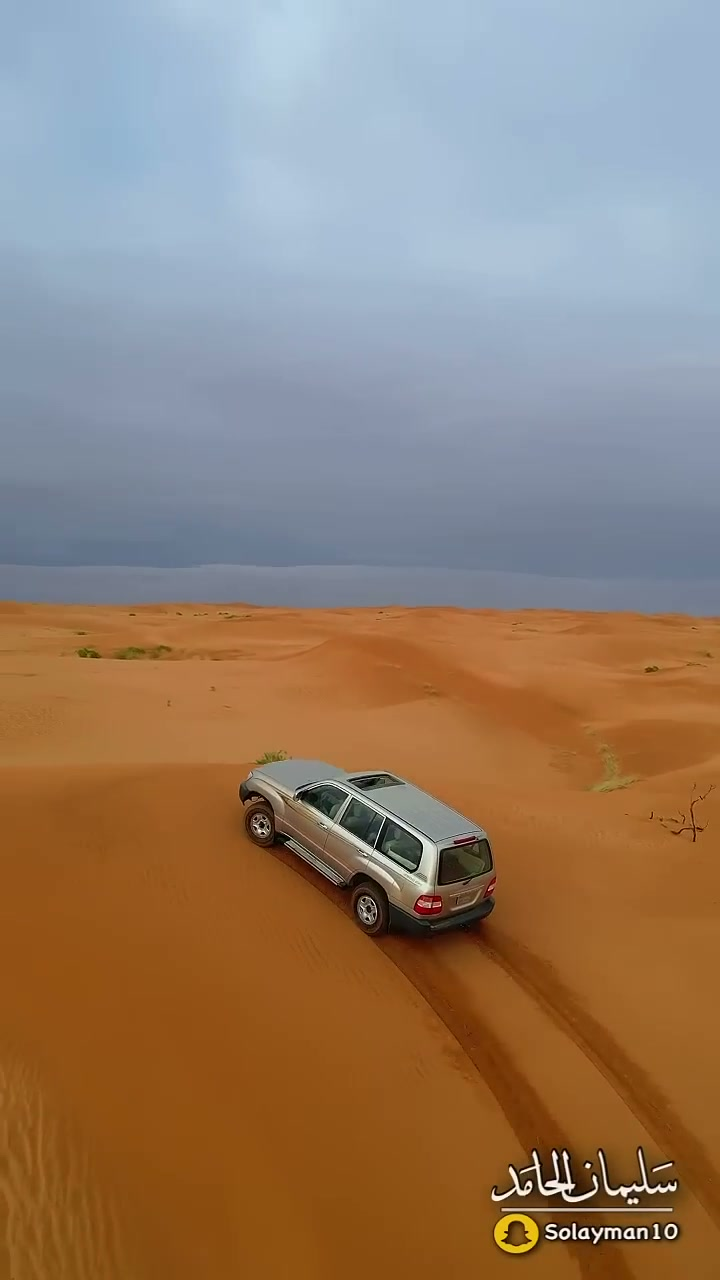vehicle_track: (469, 929, 719, 1226), (380, 938, 571, 1157)
